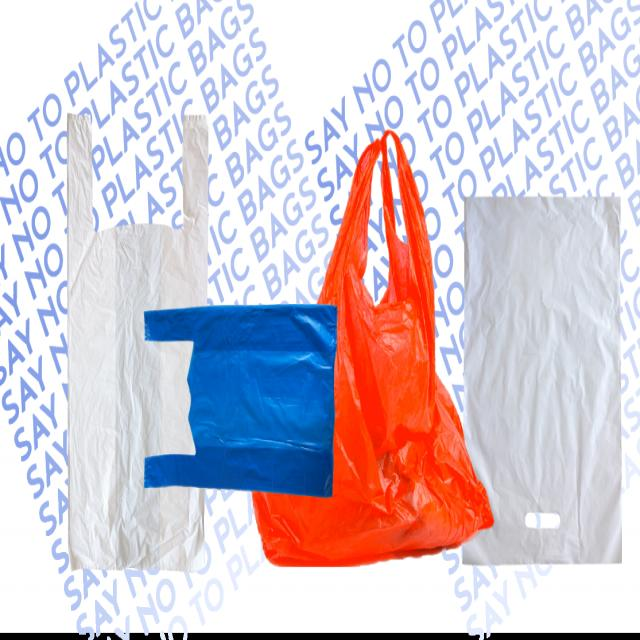Single-layer Plastic: (252, 131, 494, 567), (68, 113, 209, 571), (462, 198, 622, 564), (144, 304, 338, 497)
